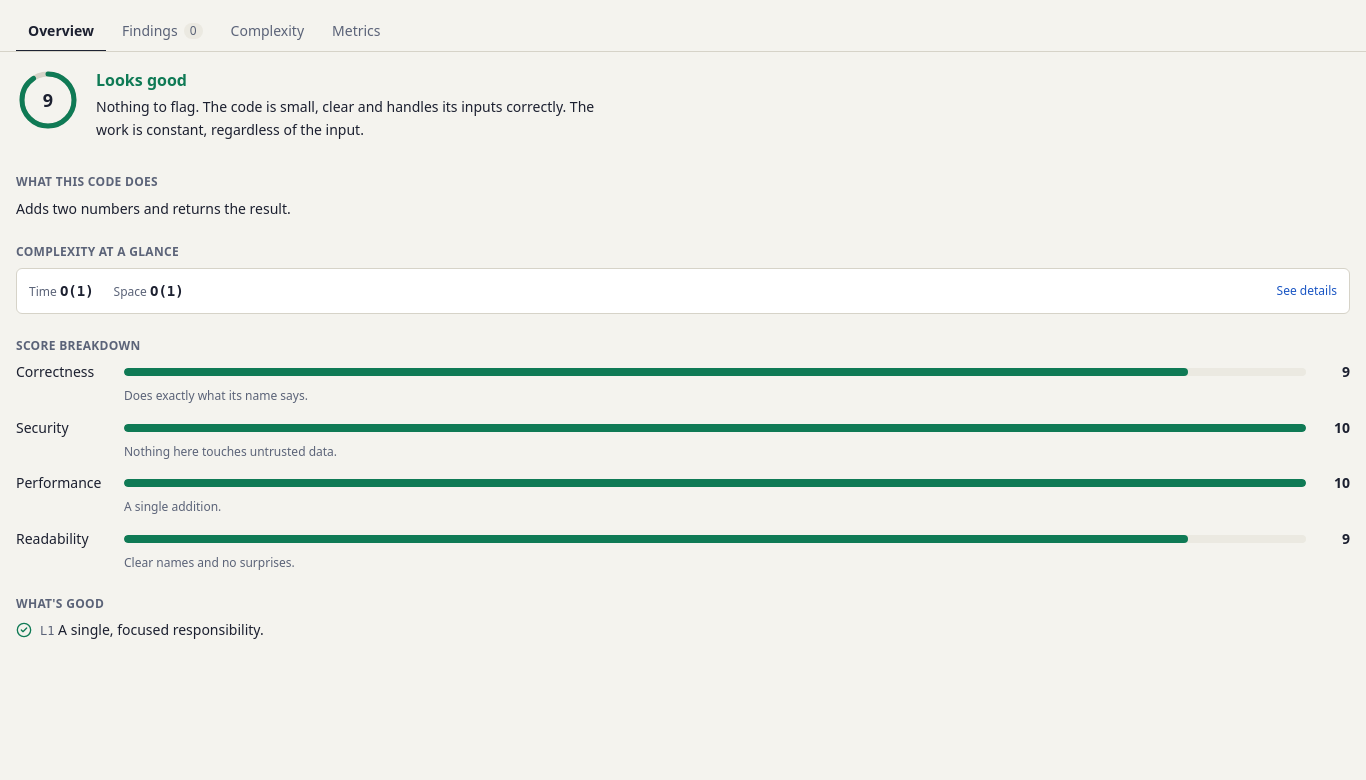
ReviewPanel result › shows a clean review without findings
This screenshot has width=1366, height=780.
Click the tab "Findings 0" at (162, 32), box [110,12,215,52]
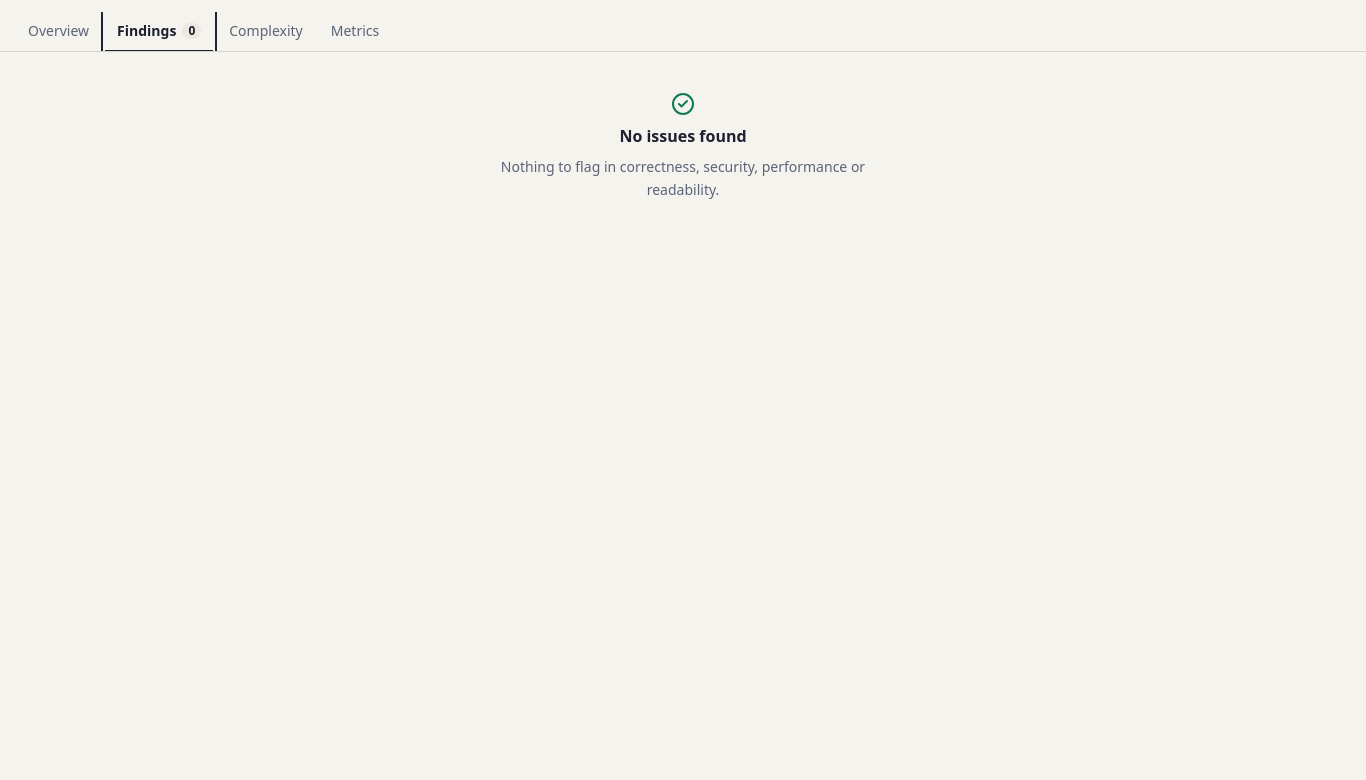
Expected: the heading "No issues found" is shown, [619,124,747,148]
